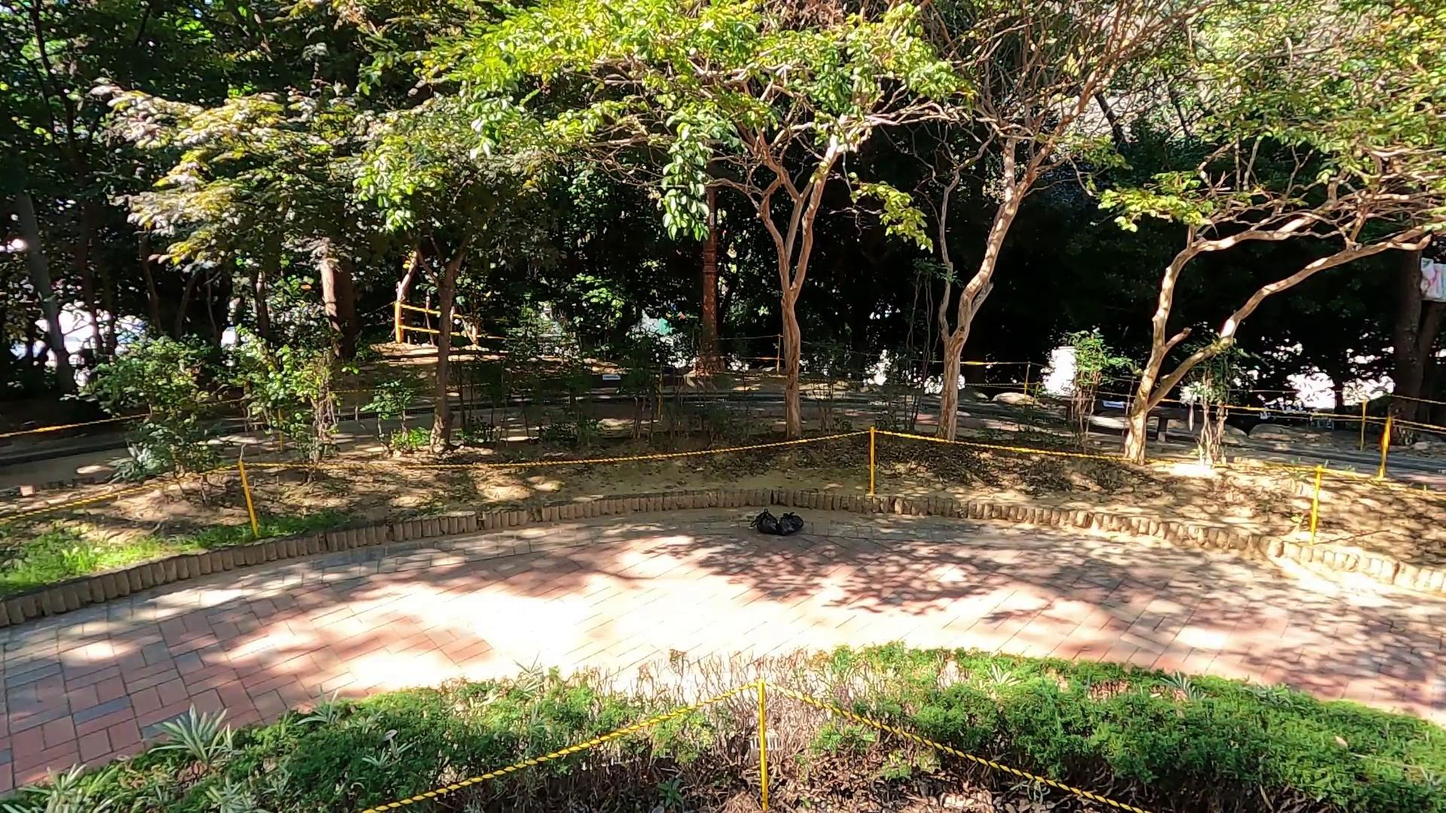trash: (751, 507, 779, 535), (777, 511, 804, 534)
